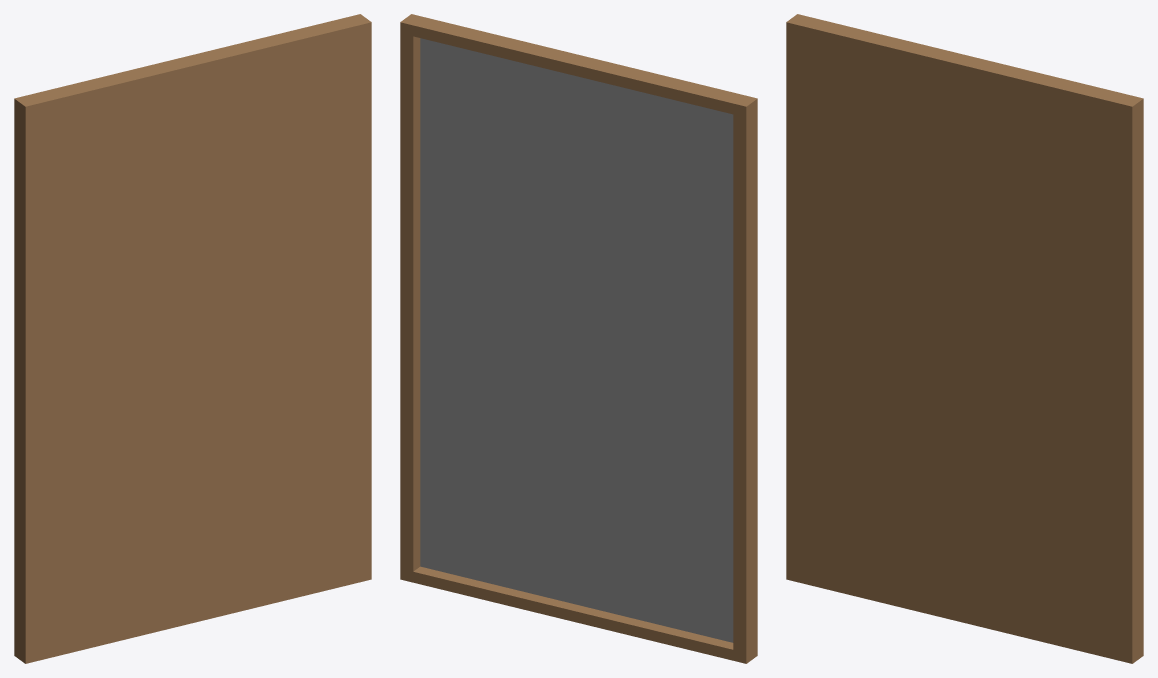
The model's file is mirror_4.FBX.
The picture shows the model from 3 angles, left to right: view 1: azimuth 30°, elevation 25°; view 2: azimuth 150°, elevation 25°; view 3: azimuth 330°, elevation 25°; orthographic projection.
Visible parts, largest first — view 1: mirror_4; view 2: mirror_4; view 3: mirror_4.
Part boxes in pixels (x1,y1,x2,y2): mirror_4: [14, 14, 371, 663]; mirror_4: [400, 14, 757, 663]; mirror_4: [786, 14, 1143, 663].
Bounding box in the file's own units: 0.6838 × 1.05 × 0.0387.
